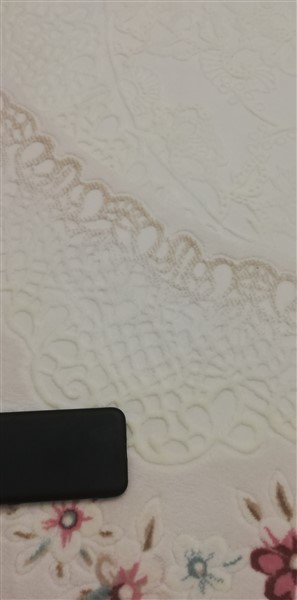telefon: (1, 401, 134, 511)
